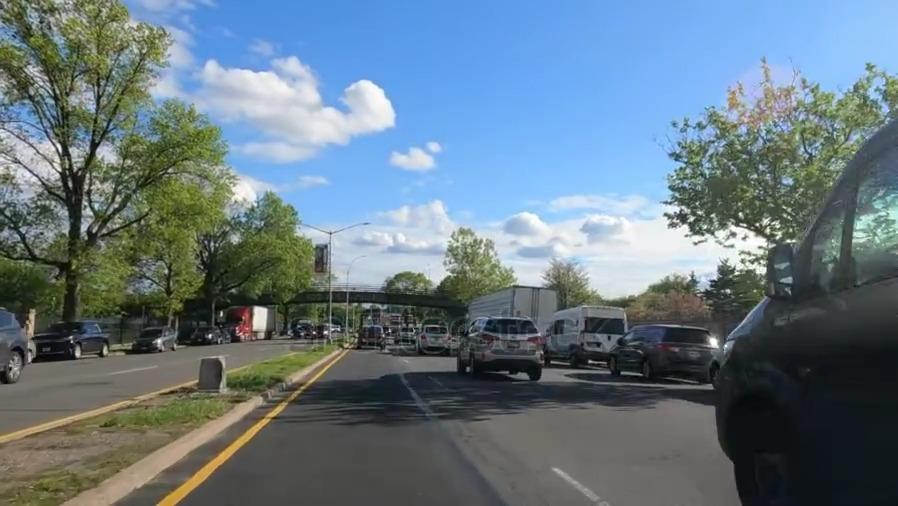car: (717, 135, 898, 491), (616, 322, 710, 384), (471, 312, 540, 383), (45, 320, 109, 359), (0, 304, 29, 376), (131, 324, 175, 355), (357, 327, 387, 349), (423, 327, 450, 351), (191, 326, 218, 341)
truck: (466, 292, 557, 323)
van: (548, 307, 614, 364)
wheel: (728, 401, 796, 506)
